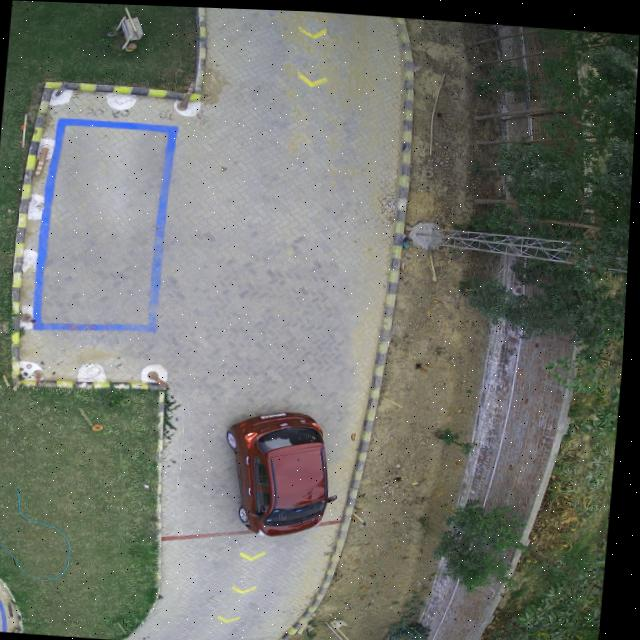car: (230, 409, 331, 534)
